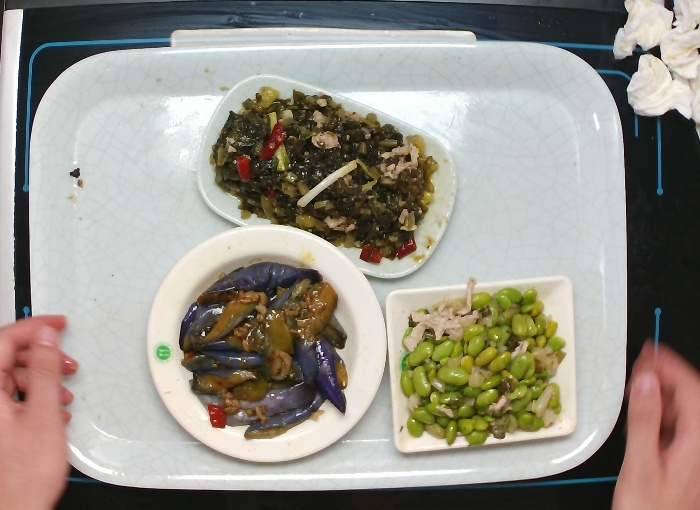WCQzf-Bai_Se_Si_Fang_Die: (381, 270, 587, 461)
WCQzf-Kuan_Bian_Yuan_Die: (140, 219, 394, 468)
WCQzf-Tuo_Yuan_Pan: (184, 68, 463, 283)
